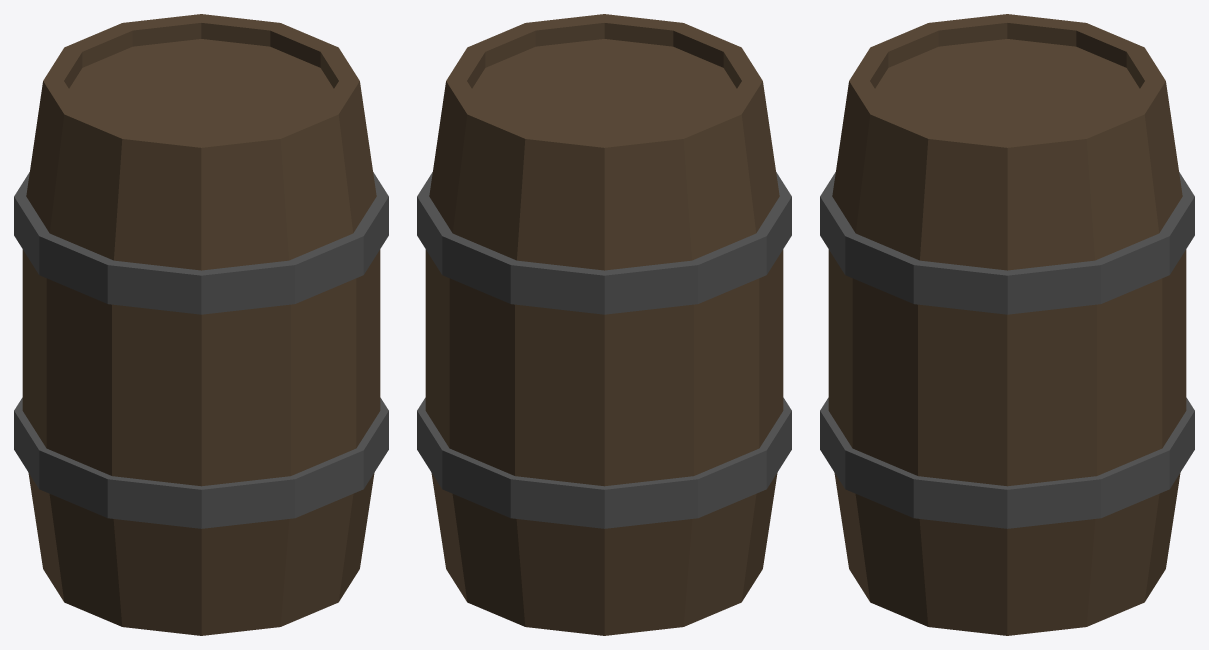
The model's file is barrel.glb.
The picture shows the model from 3 angles, left to right: view 1: azimuth 30°, elevation 25°; view 2: azimuth 150°, elevation 25°; view 3: azimuth 270°, elevation 25°; orthographic projection.
Parts seen in each view (by area): view 1: Barrel; view 2: Barrel; view 3: Barrel.
Boxes of the visible parts, left/top/right/bottom form: Barrel: left=14, top=14, right=388, bottom=635; Barrel: left=417, top=14, right=791, bottom=635; Barrel: left=820, top=14, right=1194, bottom=635.
Bounding box in the file's own units: 1.1 × 1.58 × 1.1.
1 material, 1 textured.
